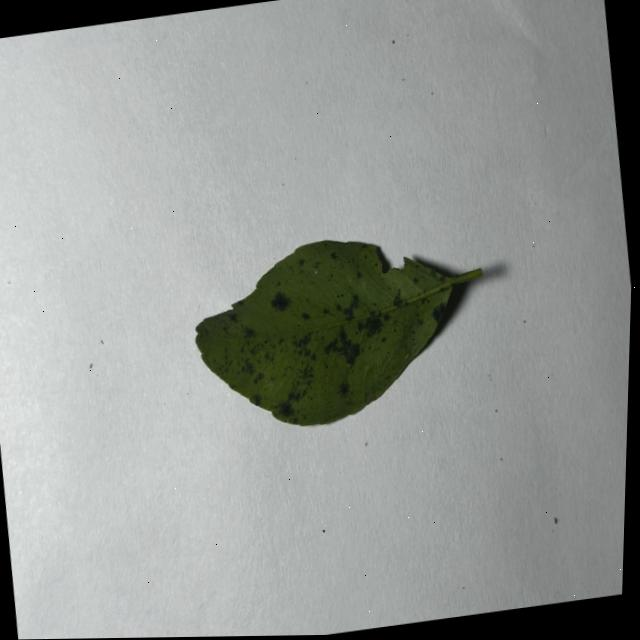sooty_mold: (196, 239, 481, 424)
